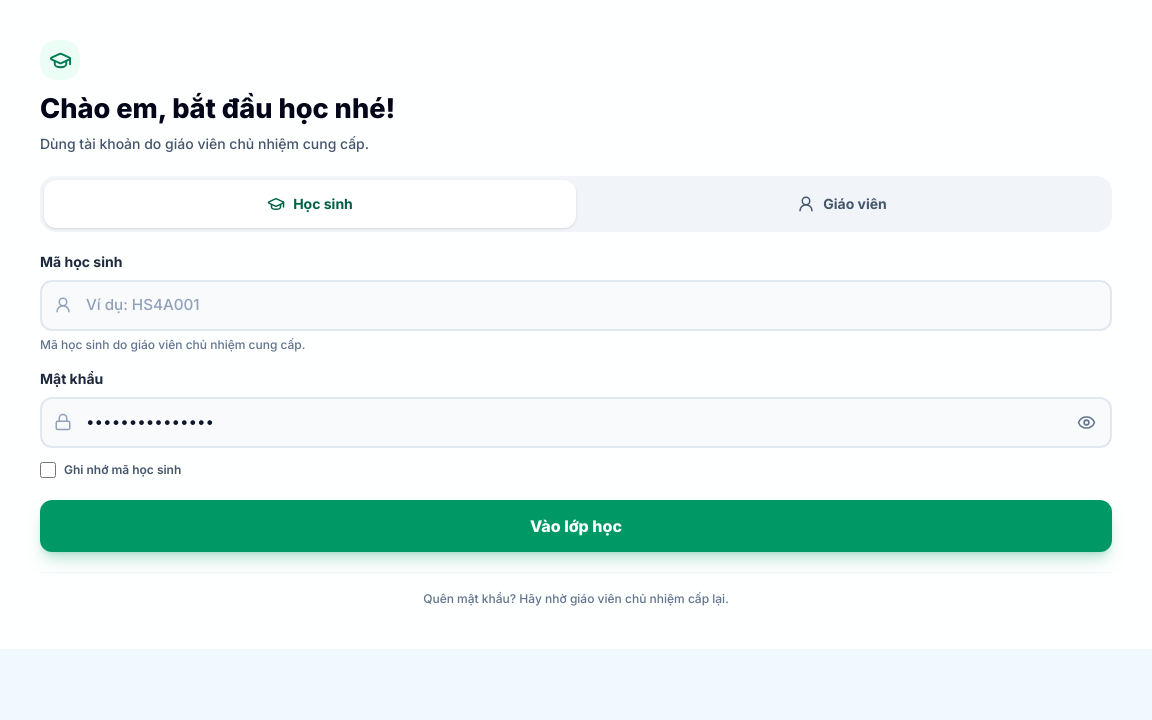
LoginForm UX › allows password visibility changes and announces Caps Lock
This screenshot has width=1152, height=720.
Click the button named "Hiện mật khẩu" at coordinates (1086, 422), box [1068, 404, 1104, 440]
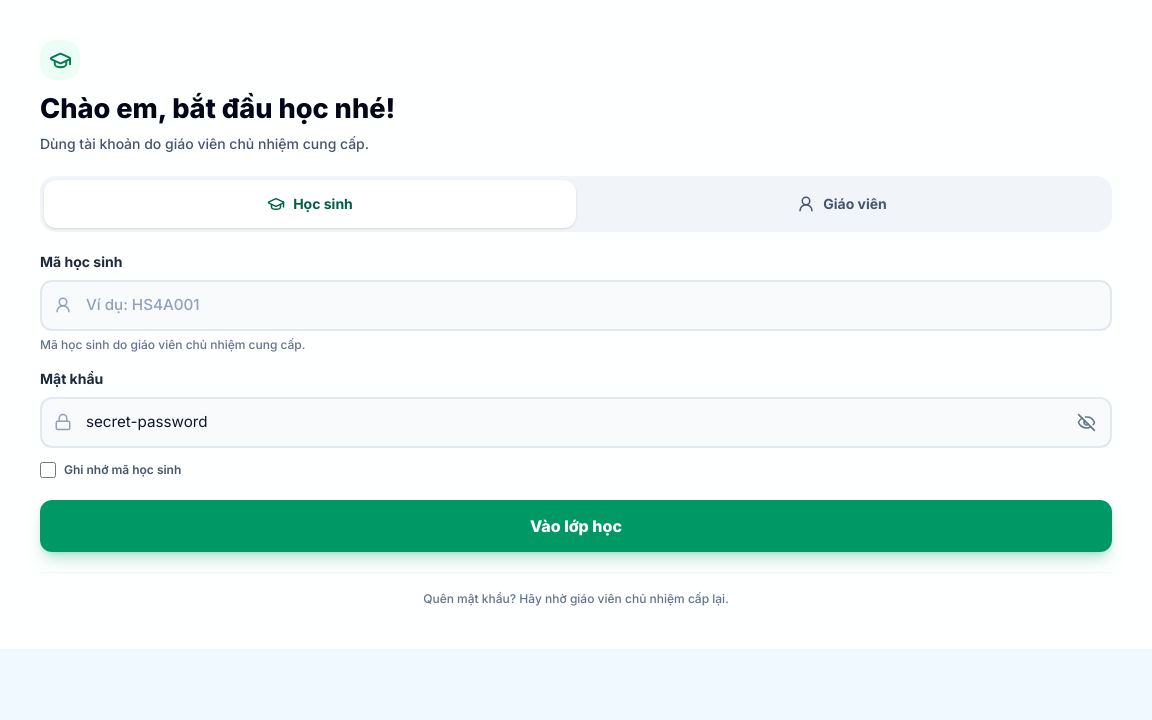
Result: the field labelled "Mật khẩu" shows its text
Result: the button named "Ẩn mật khẩu" is shown at [1068, 404, 1104, 440]
Press A in the field labelled "Mật khẩu", box [40, 397, 1112, 448]
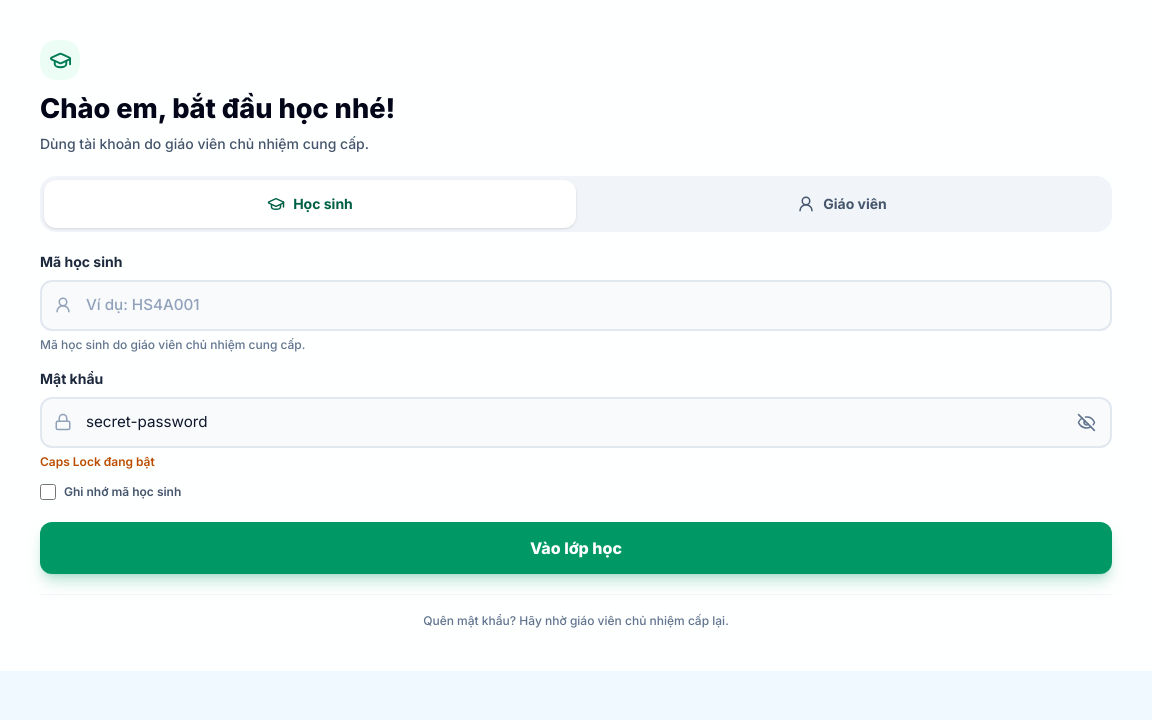
Result: the message reads "Caps Lock đang bật" at [40, 454, 155, 469]
